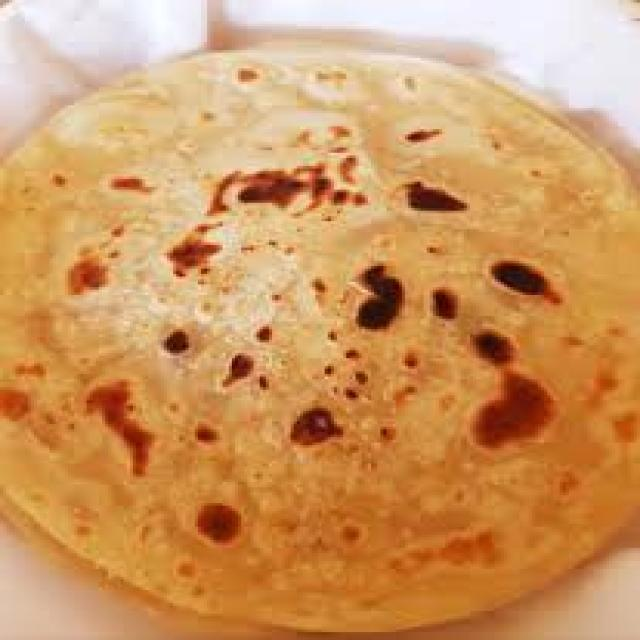ROTI: (0, 40, 637, 637)
